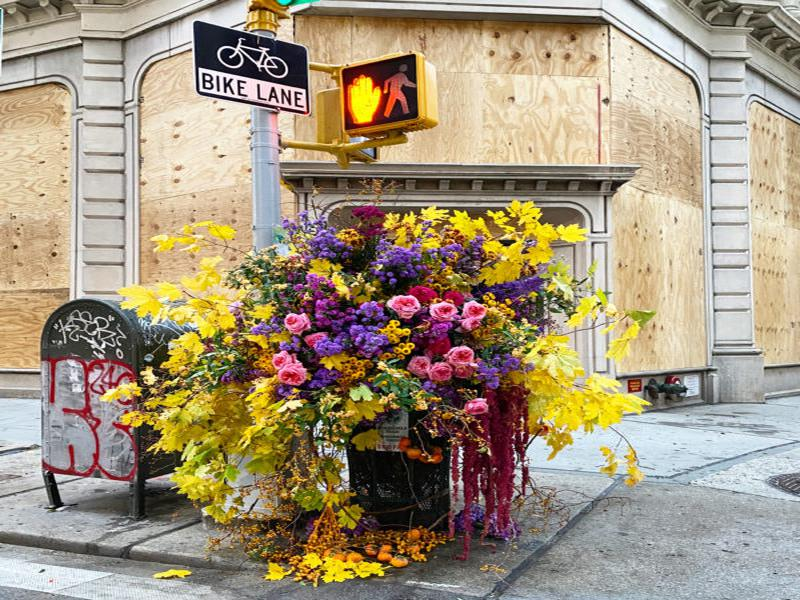flowers: (154, 204, 659, 489), (152, 508, 472, 589)
